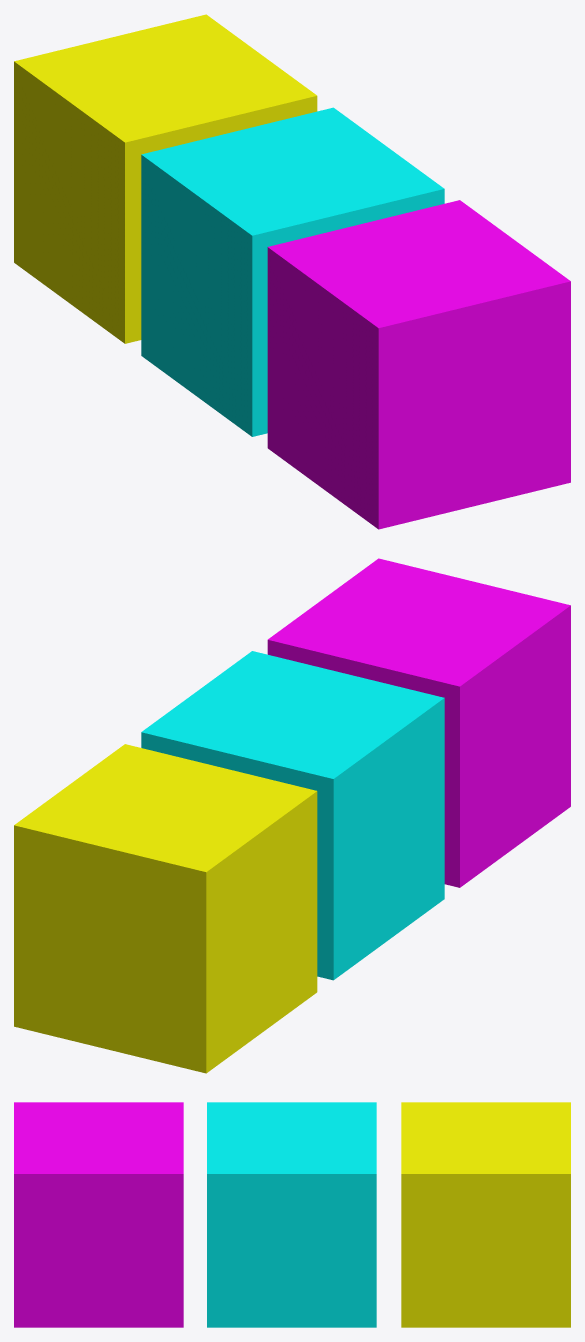
3 renders of one model, top to bottom at view 1: azimuth 30°, elevation 25°; view 2: azimuth 150°, elevation 25°; view 3: azimuth 270°, elevation 25°, orthographic. The views are drawn at different scales.
Visible parts, largest first — view 1: cube1, cube3, cube2; view 2: cube3, cube2, cube1; view 3: cube1, cube2, cube3.
Part boxes in pixels (left/top/right/bottom): cube1: left=267, top=200, right=570, bottom=529; cube3: left=14, top=14, right=317, bottom=343; cube2: left=141, top=107, right=444, bottom=436; cube3: left=14, top=744, right=317, bottom=1073; cube2: left=141, top=651, right=444, bottom=980; cube1: left=267, top=558, right=570, bottom=887; cube1: left=14, top=1102, right=183, bottom=1327; cube2: left=207, top=1102, right=376, bottom=1327; cube3: left=401, top=1102, right=570, bottom=1327.
Bounding box in the file's own units: 100 × 100 × 328.
